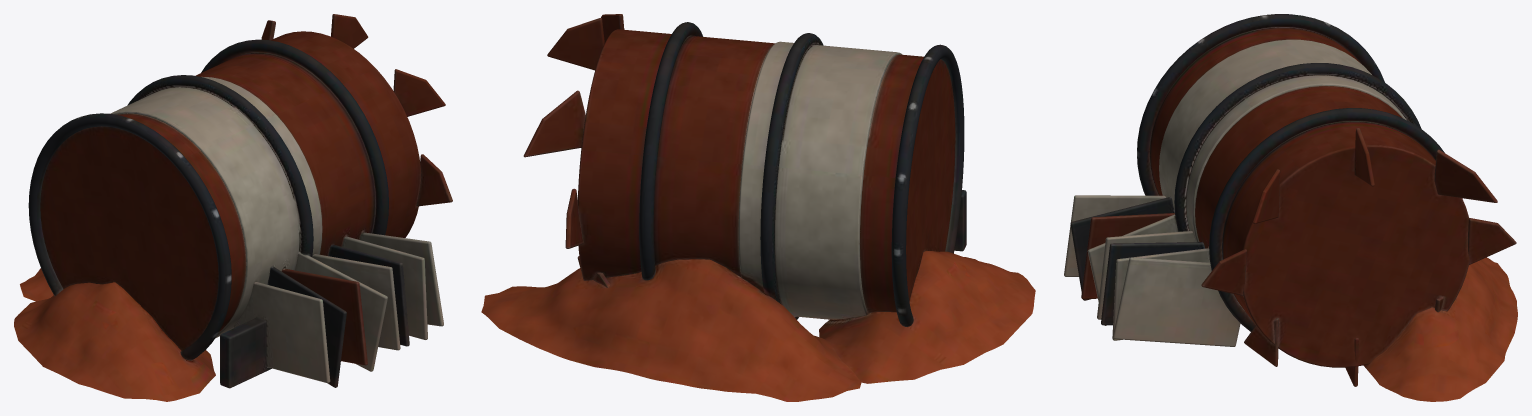
File: terraformer_debris.glb
The picture shows the model from 3 angles, left to right: view 1: azimuth 30°, elevation 25°; view 2: azimuth 150°, elevation 25°; view 3: azimuth 270°, elevation 25°; orthographic projection. The views are drawn at different scales.
Visible parts, largest first — view 1: terraformer_debris; view 2: terraformer_debris; view 3: terraformer_debris.
Part boxes in pixels (box(x1,y1,x2,y2)): terraformer_debris: box(14, 14, 452, 401); terraformer_debris: box(481, 14, 1035, 401); terraformer_debris: box(1064, 14, 1517, 401).
Size of the model in its own units: 4.88 by 3.09 by 4.86.
Materials: 1 (1 with a texture image).
